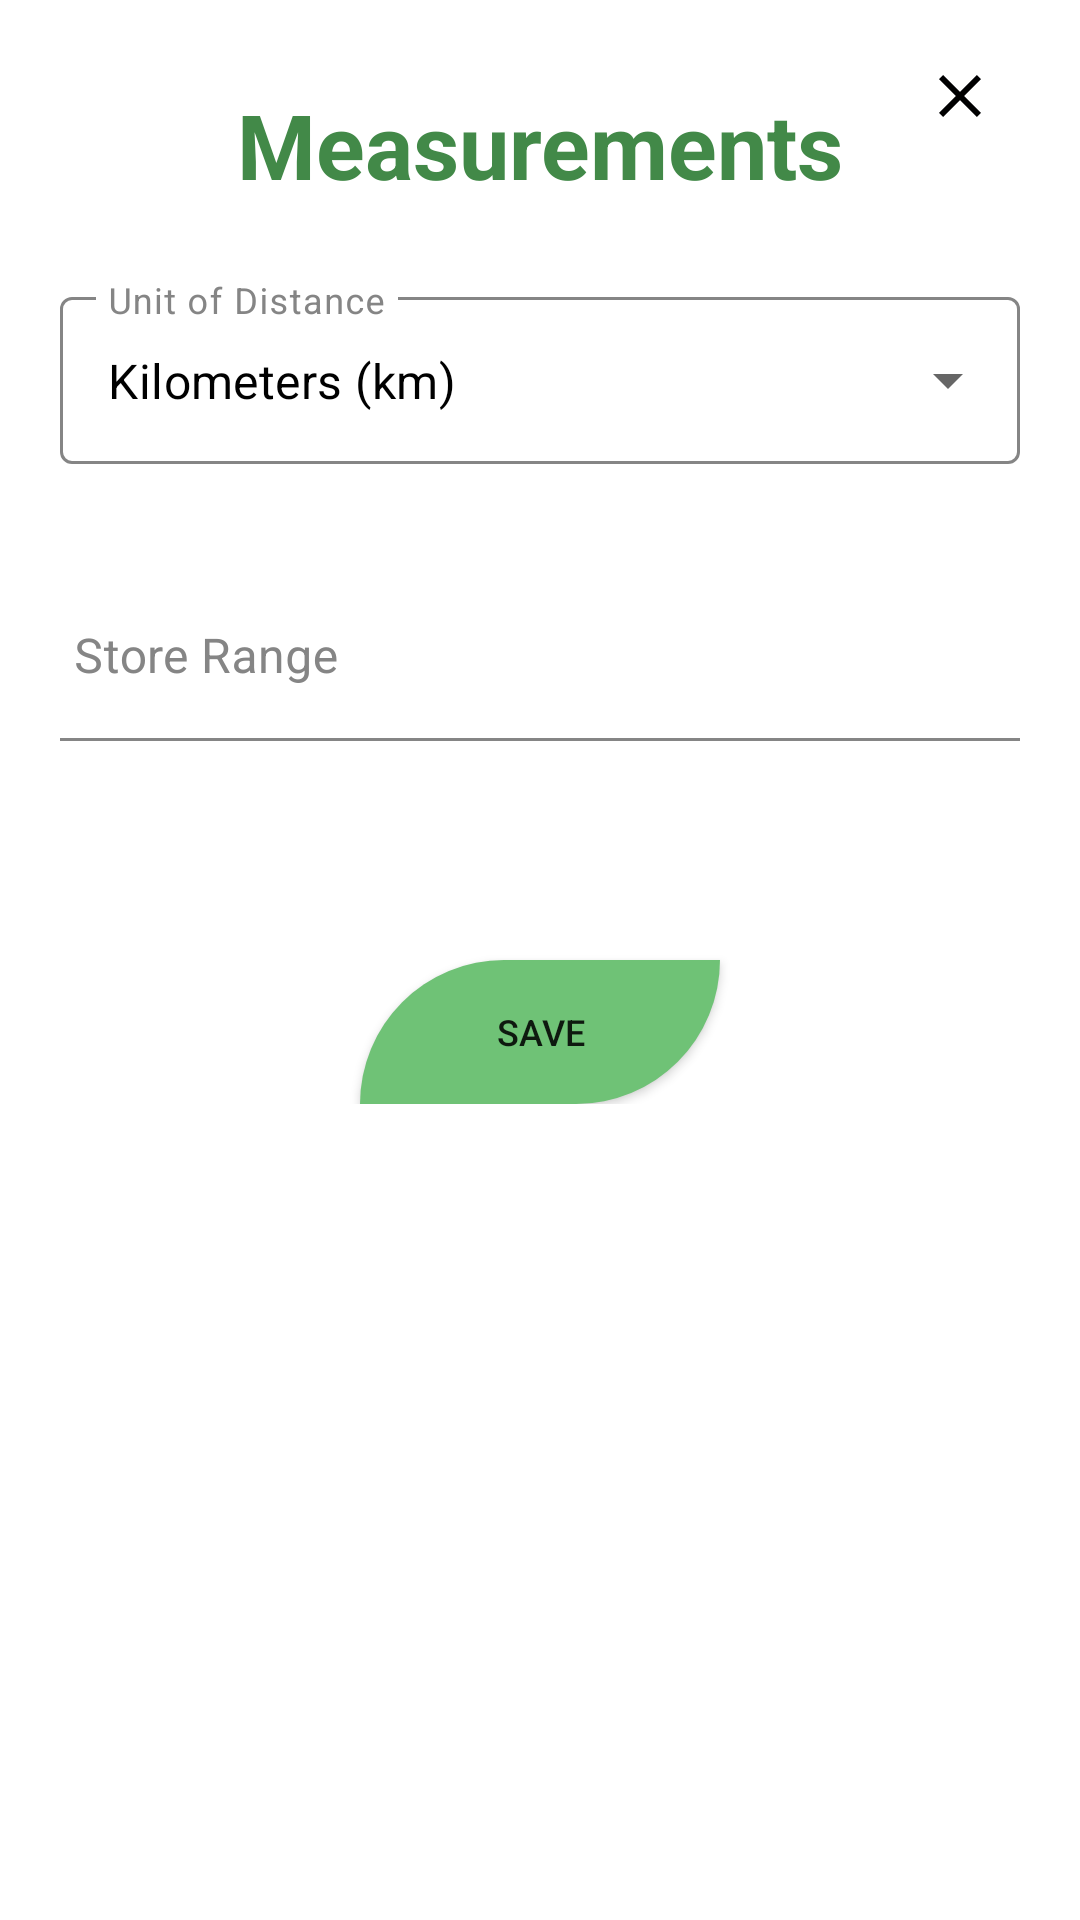

Screen size 1080 x 1920. Icon name, then its box in pixels as (x1, y1, x2, y2):
close: (939, 75, 981, 117)
